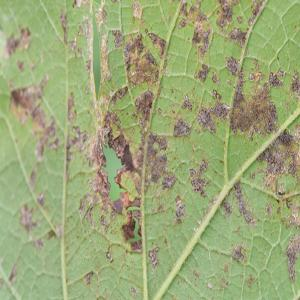Folha: (0, 0, 299, 299)
Fungo: (230, 81, 277, 140), (257, 128, 298, 178), (123, 31, 159, 87), (233, 180, 257, 226), (191, 12, 213, 57), (2, 25, 30, 59), (188, 158, 210, 198), (284, 232, 300, 282), (123, 31, 144, 69), (135, 89, 153, 130), (144, 28, 166, 58), (19, 202, 38, 234), (150, 152, 168, 183), (197, 105, 216, 134), (122, 208, 136, 242), (286, 196, 300, 230), (227, 26, 248, 48), (216, 0, 233, 27), (3, 32, 20, 58), (247, 0, 264, 26), (209, 100, 230, 120), (198, 27, 211, 57), (248, 58, 264, 82), (172, 117, 191, 137), (109, 85, 128, 105), (268, 68, 286, 88), (229, 242, 246, 262), (174, 195, 186, 223), (225, 54, 240, 76), (148, 246, 159, 275), (161, 170, 176, 190), (18, 26, 30, 50), (290, 69, 299, 100), (279, 129, 293, 148), (112, 28, 123, 50), (197, 63, 209, 83), (131, 0, 142, 21), (221, 199, 232, 219), (156, 134, 168, 151), (59, 9, 67, 32), (269, 101, 277, 123), (182, 93, 192, 110), (36, 191, 46, 207), (105, 244, 113, 262), (118, 85, 128, 99), (276, 182, 286, 195), (85, 270, 94, 284), (199, 158, 208, 172), (264, 201, 272, 216), (212, 88, 221, 101), (212, 70, 220, 84), (69, 37, 77, 51), (84, 18, 89, 39), (130, 285, 138, 298), (101, 8, 107, 24), (189, 166, 196, 176), (249, 171, 255, 179), (158, 107, 162, 113)
